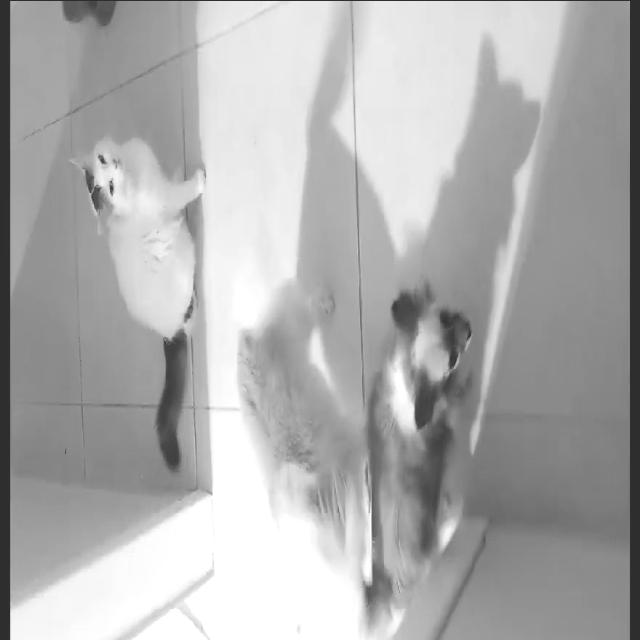Pedrita: (340, 172, 506, 606)
